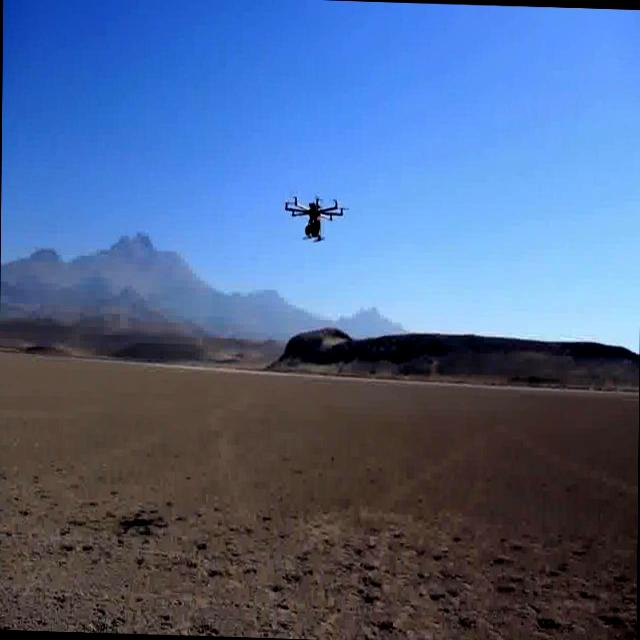drone: (282, 188, 345, 246)
